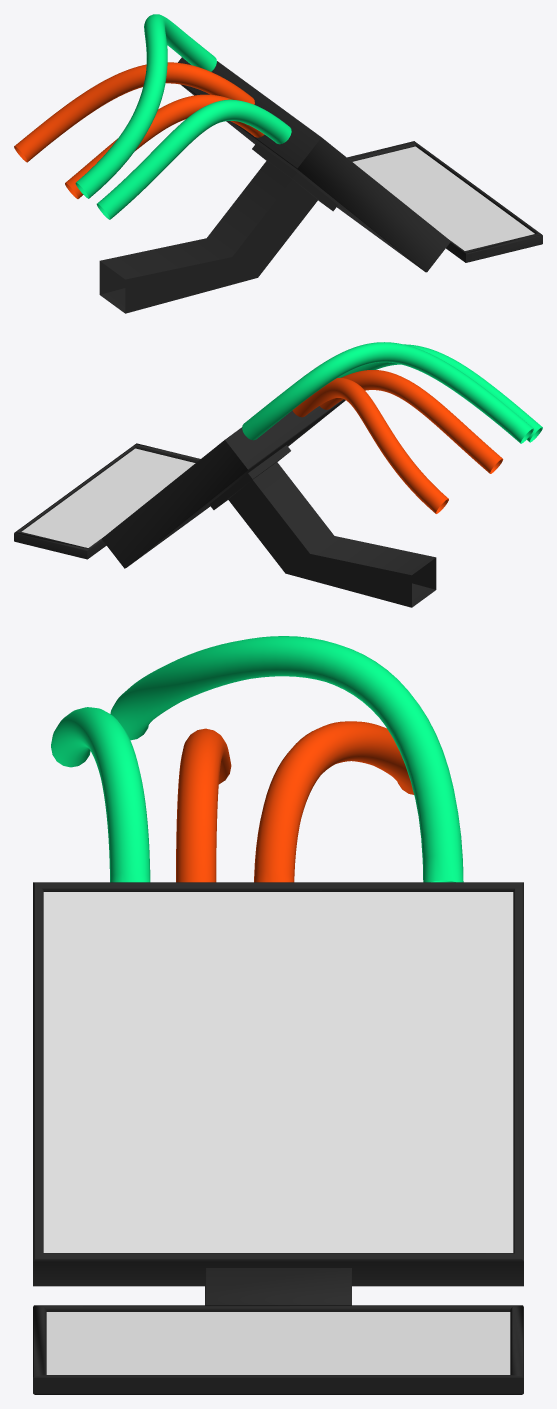
Rendered from terminal.glb.
3 renders of one model, top to bottom at view 1: azimuth 30°, elevation 25°; view 2: azimuth 150°, elevation 25°; view 3: azimuth 270°, elevation 25°, orthographic. The views are drawn at different scales.
Visible parts, largest first — view 1: Cube, screen2; view 2: Cube, screen2; view 3: screen, Cube, screen2.
Part boxes in pixels (bbox=[...]): Cube: bbox=[14, 14, 542, 313]; screen2: bbox=[353, 146, 534, 250]; Cube: bbox=[14, 342, 542, 607]; screen2: bbox=[21, 448, 195, 547]; screen: bbox=[43, 892, 513, 1252]; Cube: bbox=[33, 636, 523, 1394]; screen2: bbox=[46, 1312, 510, 1374].
Bounding box in the file's own units: 4.8 × 2.71 × 2.43.
